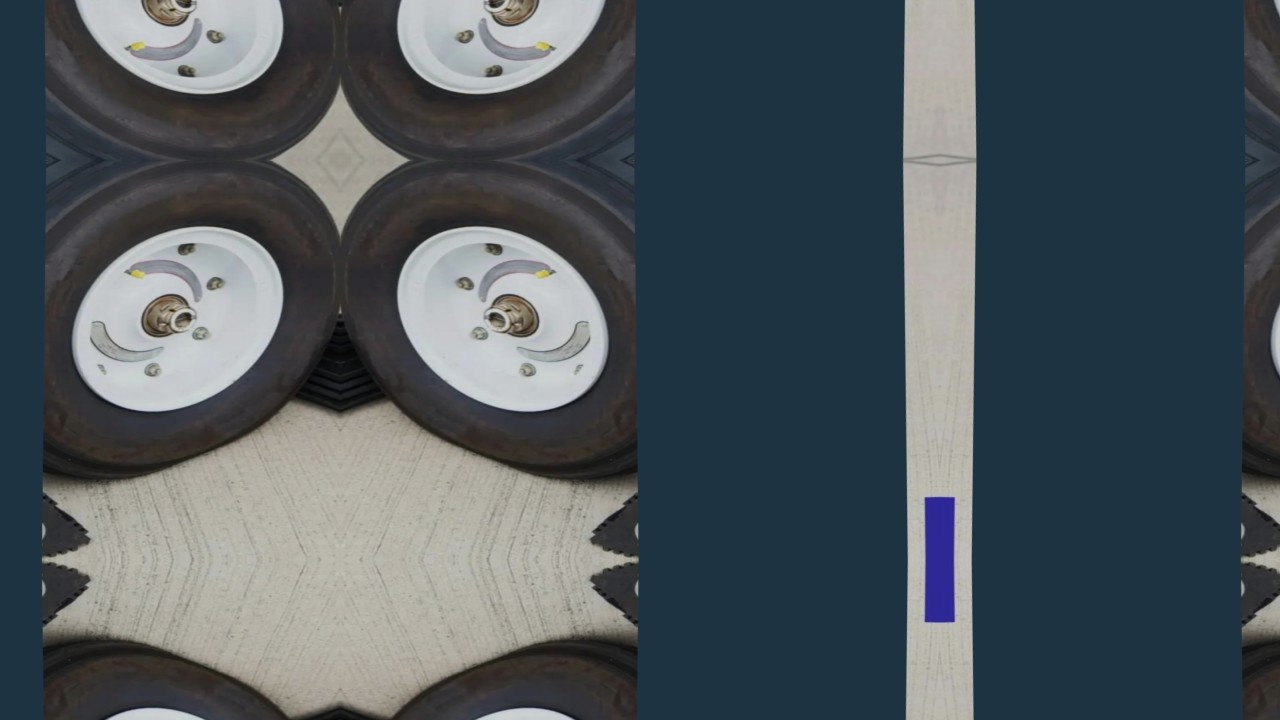chock: (568, 342, 940, 560), (940, 342, 1280, 560), (568, 560, 940, 720), (940, 560, 1280, 720), (0, 342, 112, 560), (0, 560, 112, 720), (246, 281, 340, 461), (340, 281, 434, 461), (246, 659, 340, 720), (340, 659, 434, 720), (246, 0, 340, 39), (340, 0, 434, 39)
wheel: (340, 160, 790, 508), (0, 160, 340, 508), (340, 0, 790, 160), (1090, 160, 1280, 508), (0, 0, 340, 160), (340, 612, 790, 720), (0, 612, 340, 720), (1090, 0, 1280, 160), (1090, 612, 1280, 720)
